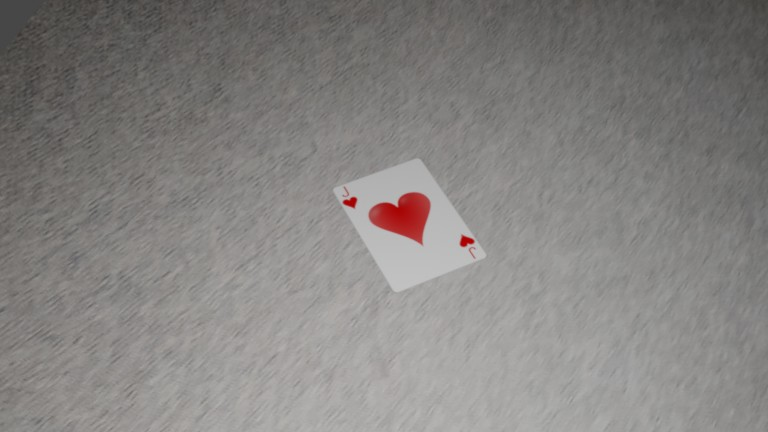jack_of_hearts: (453, 231, 486, 262), (333, 184, 364, 213)
